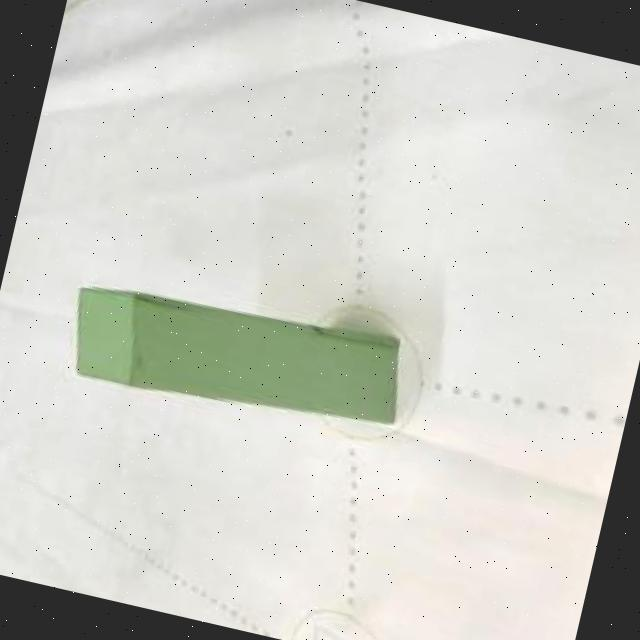greenbox: (58, 270, 412, 444)
